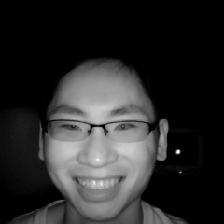happy: (20, 51, 179, 220)
